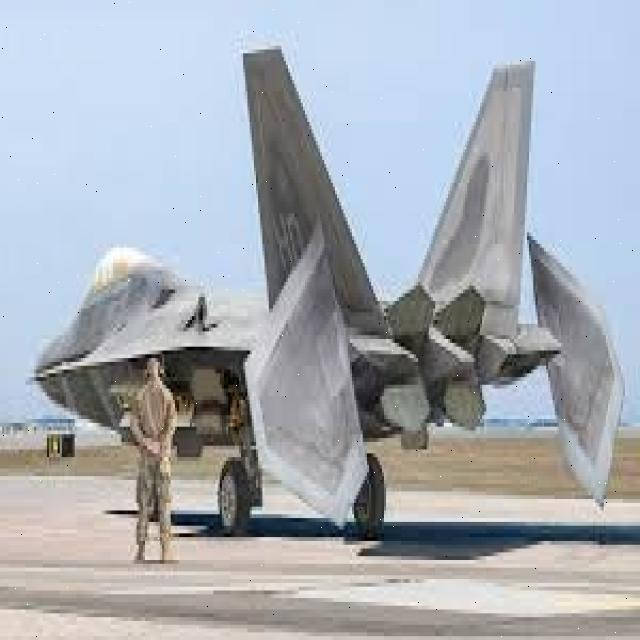F22: (4, 9, 625, 640)
